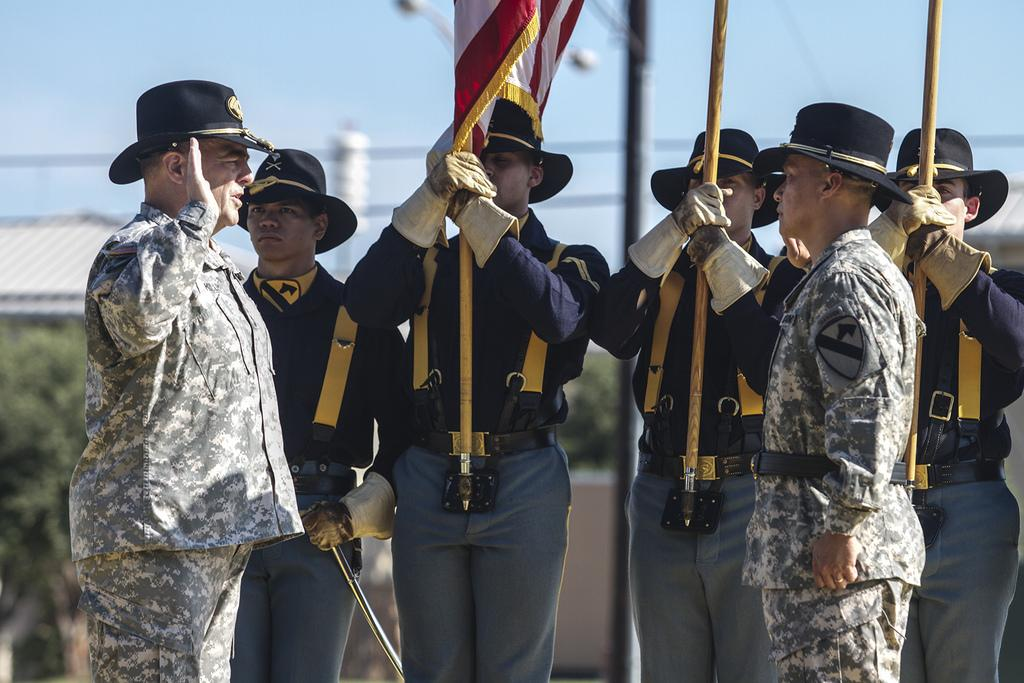Hat: (104, 77, 278, 187), (751, 99, 912, 204), (646, 128, 786, 226), (876, 129, 1008, 226), (237, 149, 356, 252), (478, 99, 573, 204)
